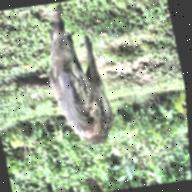boar: (20, 0, 134, 168)
